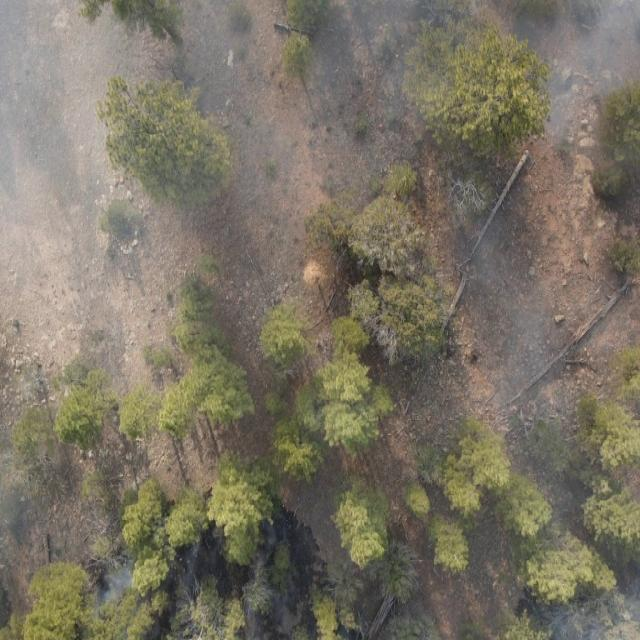smoke: (0, 0, 283, 354), (283, 0, 640, 170), (456, 191, 590, 467), (84, 544, 280, 640), (0, 461, 77, 605), (535, 581, 640, 640)
